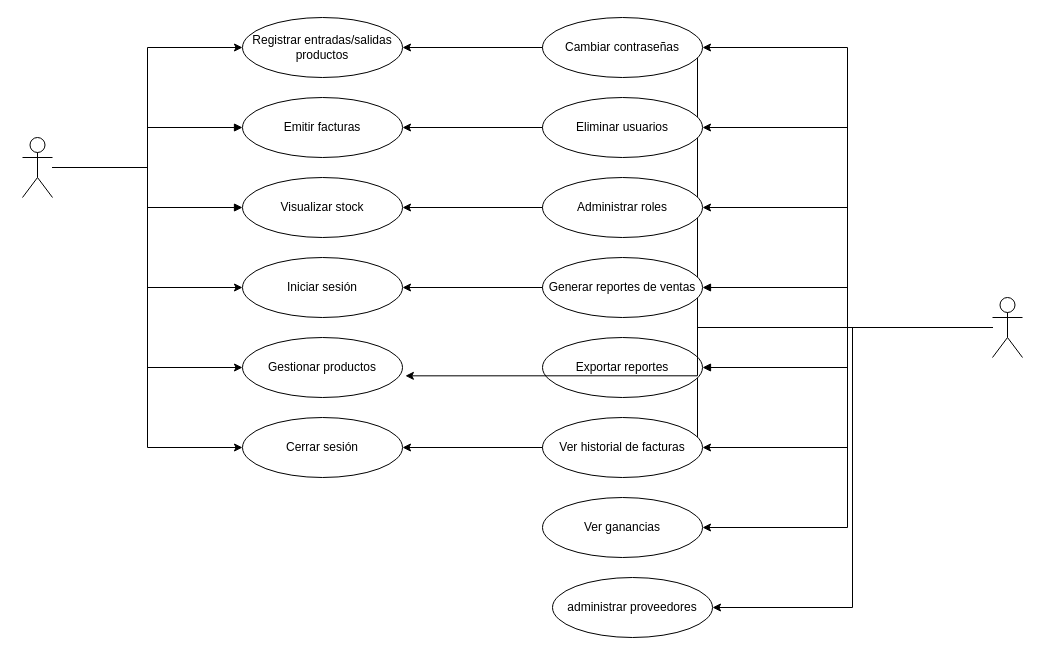
This 1062x655 diagram has some shape labels left out. The shapes that lost their labels are listed below. From the top down, each one's centre as x and y in pixels, then its label:
point 37,167: Usuario
point 1007,327: Administrador
